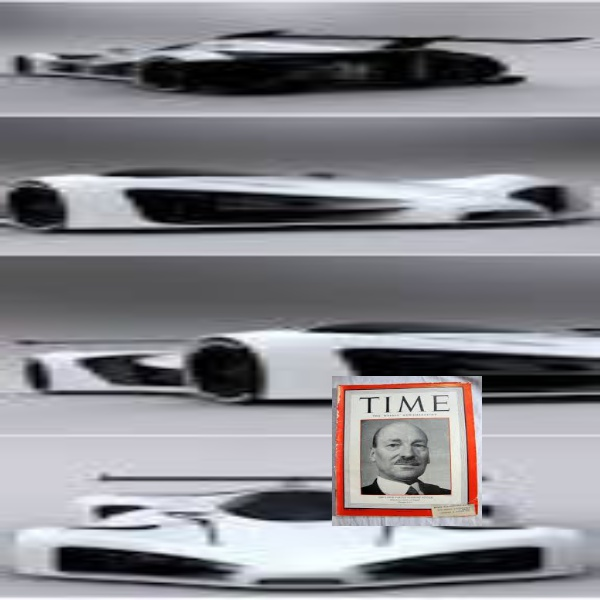time_cover: (323, 370, 481, 521)
